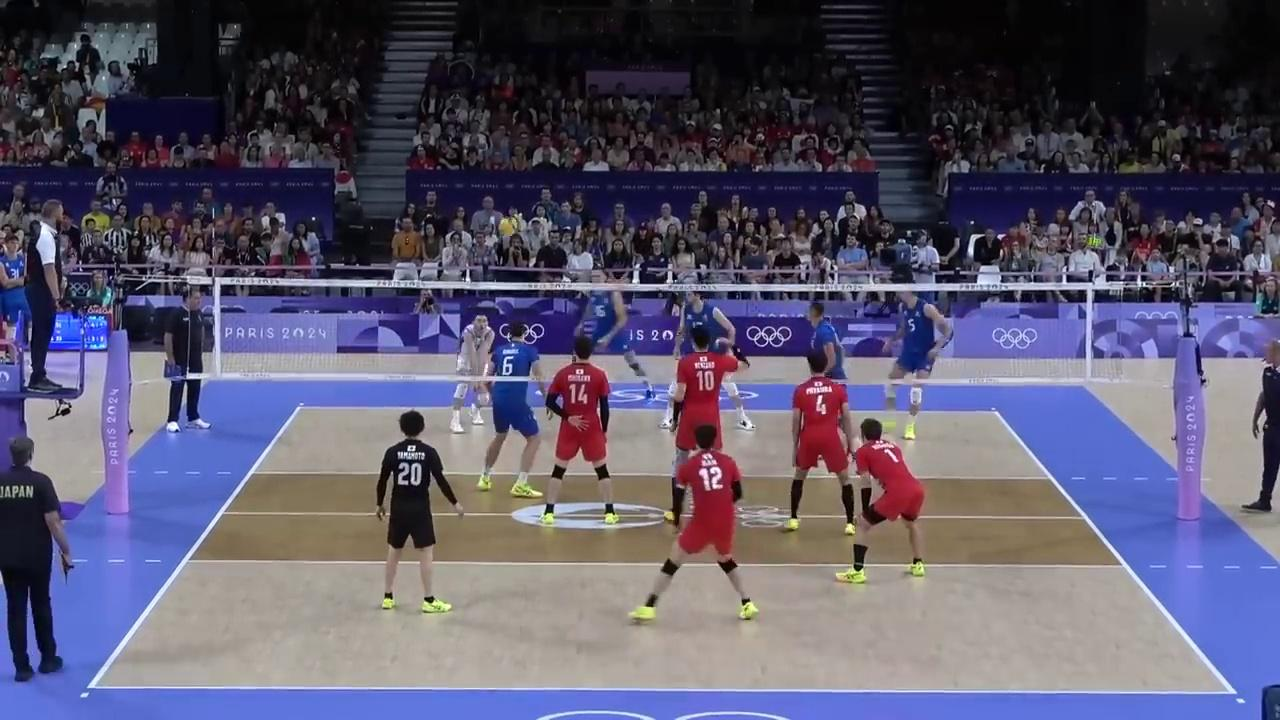ball: (500, 219, 517, 234)
